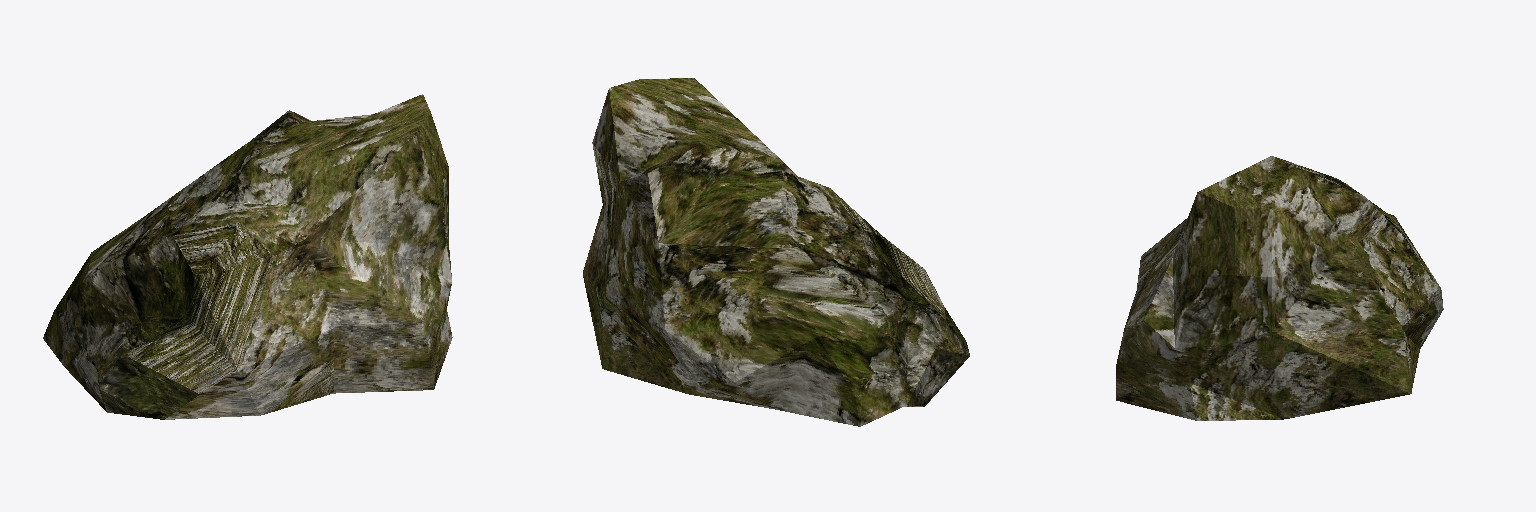
The picture shows the model from 3 angles: view 1: azimuth 30°, elevation 25°; view 2: azimuth 150°, elevation 25°; view 3: azimuth 270°, elevation 25°; orthographic projection.
Visible parts, largest first — view 1: 立方体.002; view 2: 立方体.002; view 3: 立方体.002.
Part boxes in pixels (bbox=[...]): 立方体.002: bbox=[43, 94, 452, 419]; 立方体.002: bbox=[583, 78, 969, 426]; 立方体.002: bbox=[1116, 156, 1443, 420].
Size of the model in its own units: 5.58 by 3.72 by 4.4.
Materials: 1 (1 with a texture image).